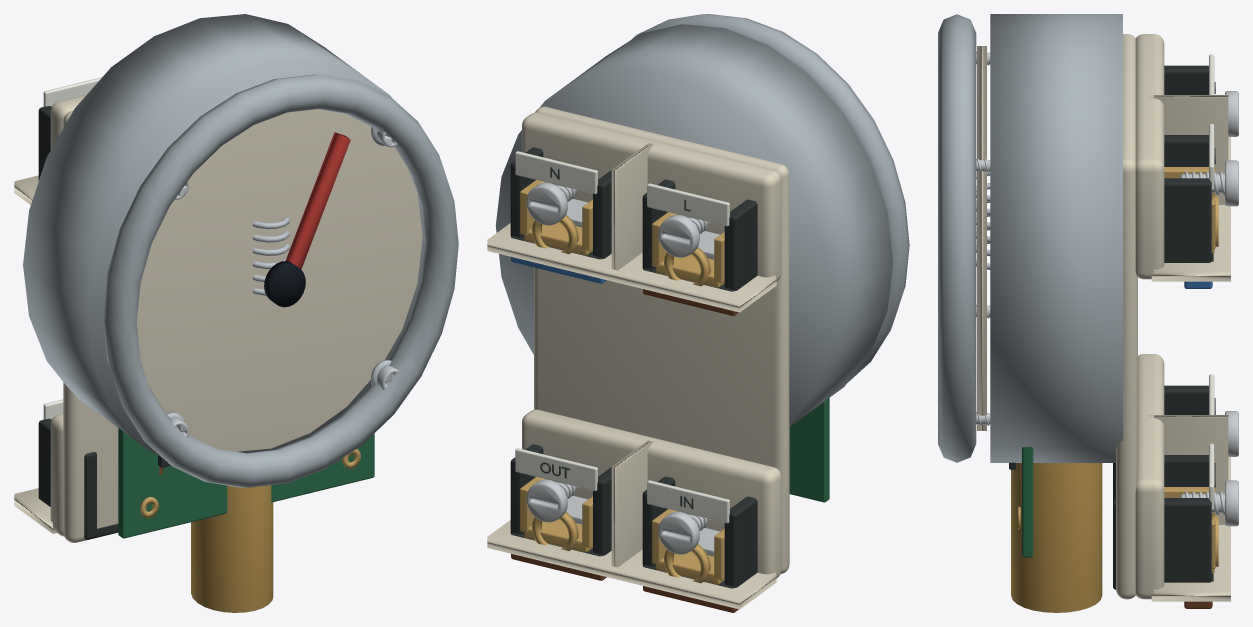
File: sensor_mode_pressure.glb
The picture shows the model from 3 angles, left to right: view 1: azimuth 30°, elevation 25°; view 2: azimuth 150°, elevation 25°; view 3: azimuth 270°, elevation 25°; orthographic projection. The views are drawn at different scales.
Visible parts, largest first — view 1: part:body, part:mounting.002, part:terminals · Original 5a609f27, FR4 control PCB, part:sensing, detail:terminal-clamp:IN · Detail moulded engineering polyme, detail:sensor-transducer · Detail brushed stainless steel, detail:gauge-bezel-retainers · Detail zinc plated fixing, Moulded terminal legend pad, detail:terminal-clamp:L · Detail moulded engineering polymer; view 2: part:terminals · Original 5a609f27, part:body, part:mounting.002, detail:terminal-clamp:L · Detail moulded engineering polymer, detail:terminal-clamp:IN · Detail moulded engineering polyme, FR4 control PCB, detail:terminal-clamp:N · Detail moulded engineering polymer, detail:terminal-clamp:OUT · Detail moulded engineering polym, detail:terminal-clamp:N · Detail machined brass, detail:terminal-clamp:OUT · Detail machined brass, detail:terminal-clamp:IN · Detail machined brass, detail:terminal-clamp:L · Detail machined brass (+8 smaller); view 3: part:body, part:terminals · Original 5a609f27, part:mounting.002, detail:terminal-clamp:OUT · Detail moulded engineering polym, detail:terminal-clamp:N · Detail moulded engineering polymer, detail:terminal-clamp:IN · Detail moulded engineering polyme, detail:terminal-clamp:L · Detail moulded engineering polymer, FR4 control PCB, detail:terminal-clamp:N · Detail zinc plated fixing, detail:terminal-clamp:OUT · Detail zinc plated fixing, detail:terminal-clamp:N · Detail machined brass, detail:terminal-clamp:OUT · Detail machined brass (+3 smaller).
Boxes of the visible parts, bbox=[...] form: part:body: bbox=[23, 14, 424, 612]; part:mounting.002: bbox=[103, 74, 458, 487]; part:terminals · Original 5a609f27: bbox=[14, 95, 118, 542]; FR4 control PCB: bbox=[118, 428, 374, 538]; part:sensing: bbox=[264, 132, 350, 307]; detail:terminal-clamp:IN · Detail moulded engineering polyme: bbox=[38, 418, 118, 539]; detail:sensor-transducer · Detail brushed stainless steel: bbox=[252, 217, 289, 295]; detail:gauge-bezel-retainers · Detail zinc plated fixing: bbox=[171, 131, 398, 437]; Moulded terminal legend pad: bbox=[43, 77, 102, 106]; detail:terminal-clamp:L · Detail moulded engineering polymer: bbox=[38, 106, 51, 180]; part:terminals · Original 5a609f27: bbox=[487, 106, 789, 609]; part:body: bbox=[495, 24, 893, 426]; part:mounting.002: bbox=[631, 14, 909, 382]; detail:terminal-clamp:L · Detail moulded engineering polymer: bbox=[642, 179, 757, 291]; detail:terminal-clamp:IN · Detail moulded engineering polyme: bbox=[642, 476, 757, 588]; FR4 control PCB: bbox=[789, 397, 829, 502]; detail:terminal-clamp:N · Detail moulded engineering polymer: bbox=[510, 147, 611, 259]; detail:terminal-clamp:OUT · Detail moulded engineering polym: bbox=[510, 444, 611, 556]; detail:terminal-clamp:N · Detail machined brass: bbox=[520, 180, 592, 255]; detail:terminal-clamp:OUT · Detail machined brass: bbox=[520, 477, 592, 552]; detail:terminal-clamp:IN · Detail machined brass: bbox=[652, 509, 724, 584]; detail:terminal-clamp:L · Detail machined brass: bbox=[652, 212, 724, 287]; part:body: bbox=[977, 14, 1122, 612]; part:terminals · Original 5a609f27: bbox=[1116, 34, 1230, 601]; part:mounting.002: bbox=[938, 14, 976, 462]; detail:terminal-clamp:OUT · Detail moulded engineering polym: bbox=[1113, 455, 1213, 589]; detail:terminal-clamp:N · Detail moulded engineering polymer: bbox=[1164, 135, 1213, 262]; detail:terminal-clamp:IN · Detail moulded engineering polyme: bbox=[1164, 385, 1208, 414]; detail:terminal-clamp:L · Detail moulded engineering polymer: bbox=[1164, 65, 1208, 94]; FR4 control PCB: bbox=[1022, 447, 1033, 557]; detail:terminal-clamp:N · Detail zinc plated fixing: bbox=[1180, 160, 1238, 206]; detail:terminal-clamp:OUT · Detail zinc plated fixing: bbox=[1180, 480, 1238, 526]; detail:terminal-clamp:N · Detail machined brass: bbox=[1164, 167, 1218, 253]; detail:terminal-clamp:OUT · Detail machined brass: bbox=[1164, 487, 1218, 573].
Bounding box in the file's own units: 0.4738 × 0.7076 × 0.3413.
